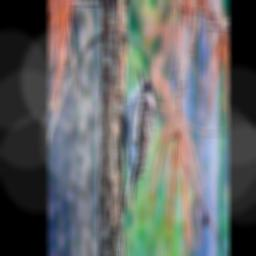Woodpecker: (110, 61, 162, 221)
